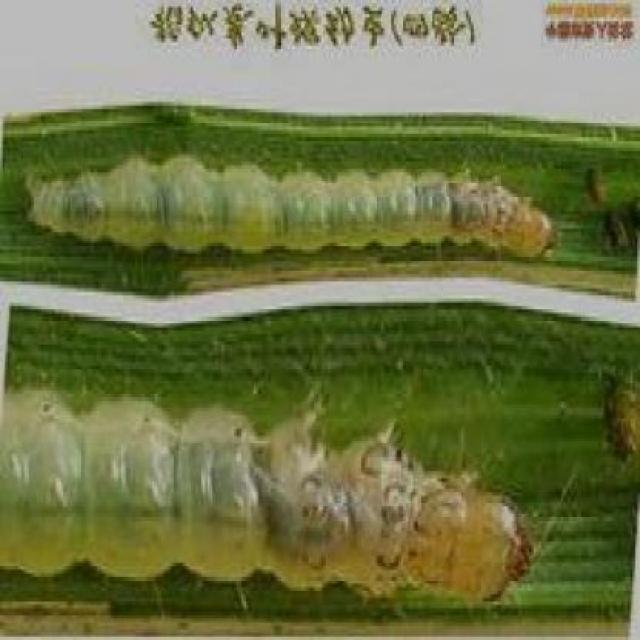leaf-folder: (26, 374, 562, 606), (14, 123, 572, 288)
